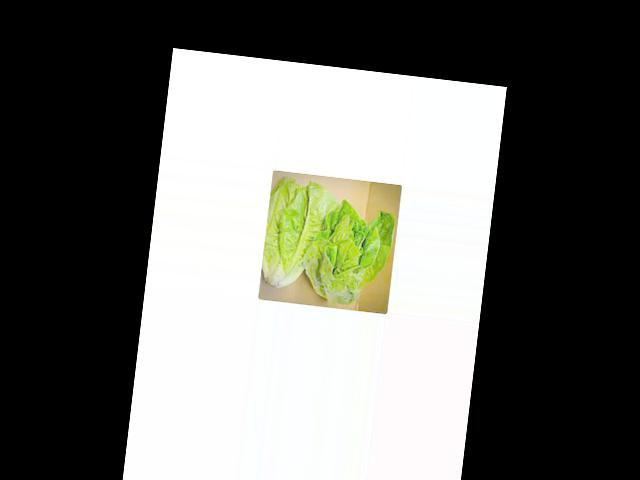lettuce: (263, 184, 381, 296)
